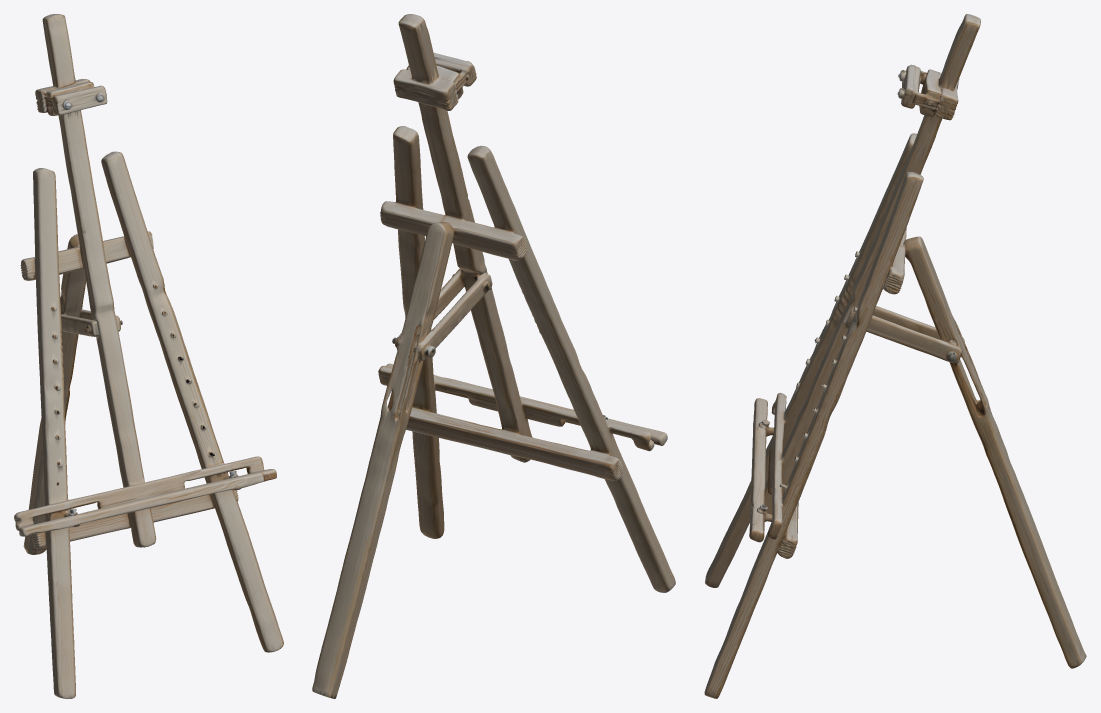
Rendered from wooden.fbx.
3 renders of one model, left to right at view 1: azimuth 30°, elevation 25°; view 2: azimuth 150°, elevation 25°; view 3: azimuth 270°, elevation 25°, orthographic. The views are drawn at different scales.
Parts seen in each view (by area): view 1: tripo_node_e681b8dc; view 2: tripo_node_e681b8dc; view 3: tripo_node_e681b8dc.
Part boxes in pixels (left/top/right/bottom): tripo_node_e681b8dc: left=14, top=14, right=283, bottom=698; tripo_node_e681b8dc: left=312, top=14, right=675, bottom=698; tripo_node_e681b8dc: left=704, top=14, right=1086, bottom=698.
Size of the model in its own units: 44.36 by 53.5 by 97.97.
Materials: 1 (1 with a texture image).
